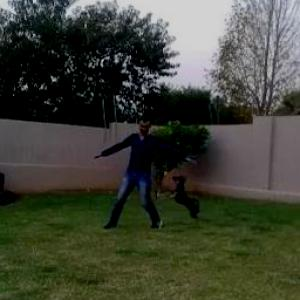land: (95, 115, 201, 240)
